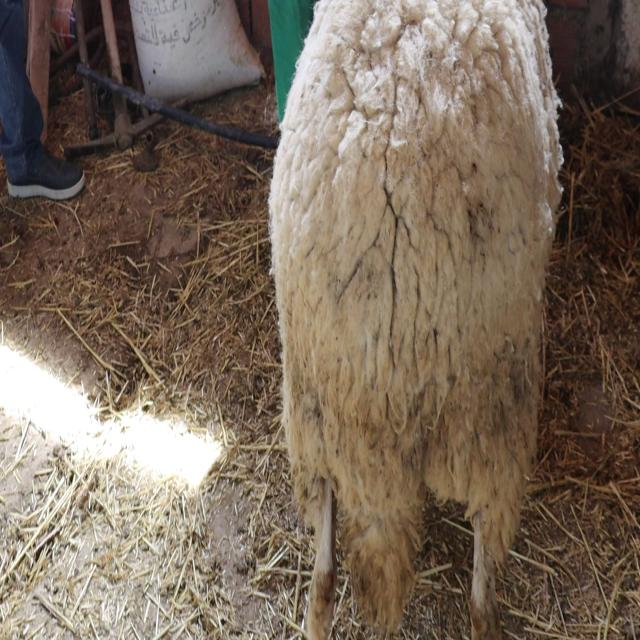Score_4: (268, 0, 564, 639)
